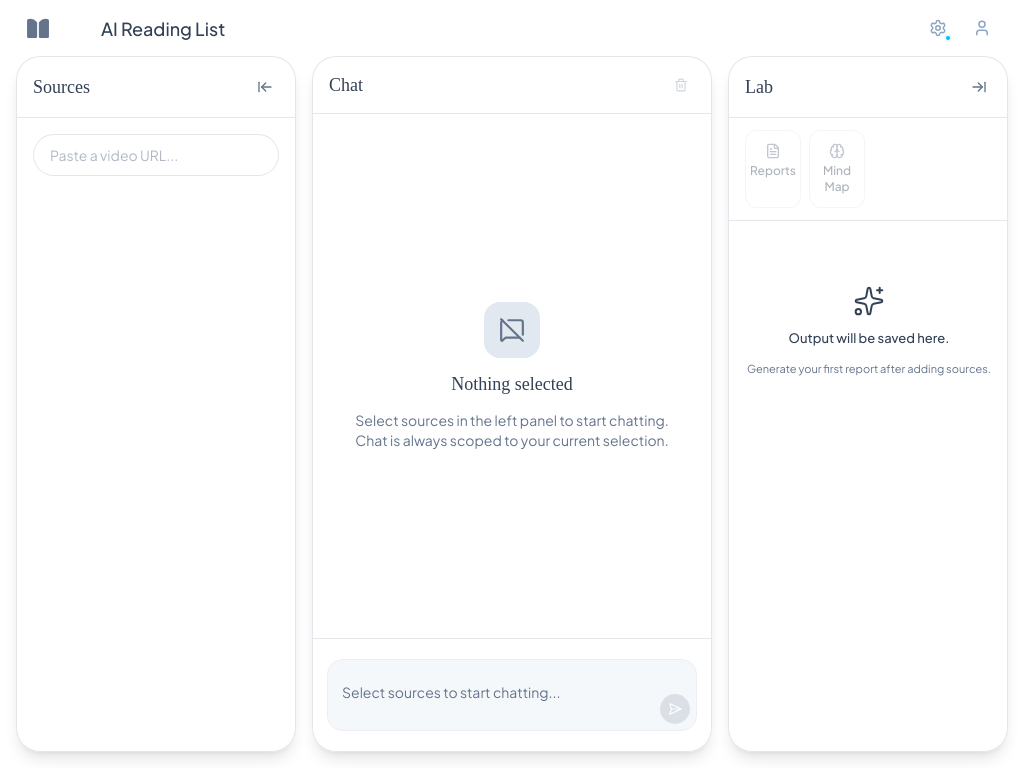
Test case: list detail page › renders three-panel workspace with correct panel headings and skeleton text
Expected: the heading "Sources" is shown, [33, 77, 90, 97]
Expected: the heading "Chat" is shown, [329, 75, 363, 95]
Click the button named "collapse sources".
click(265, 87)  # box [251, 73, 279, 101]
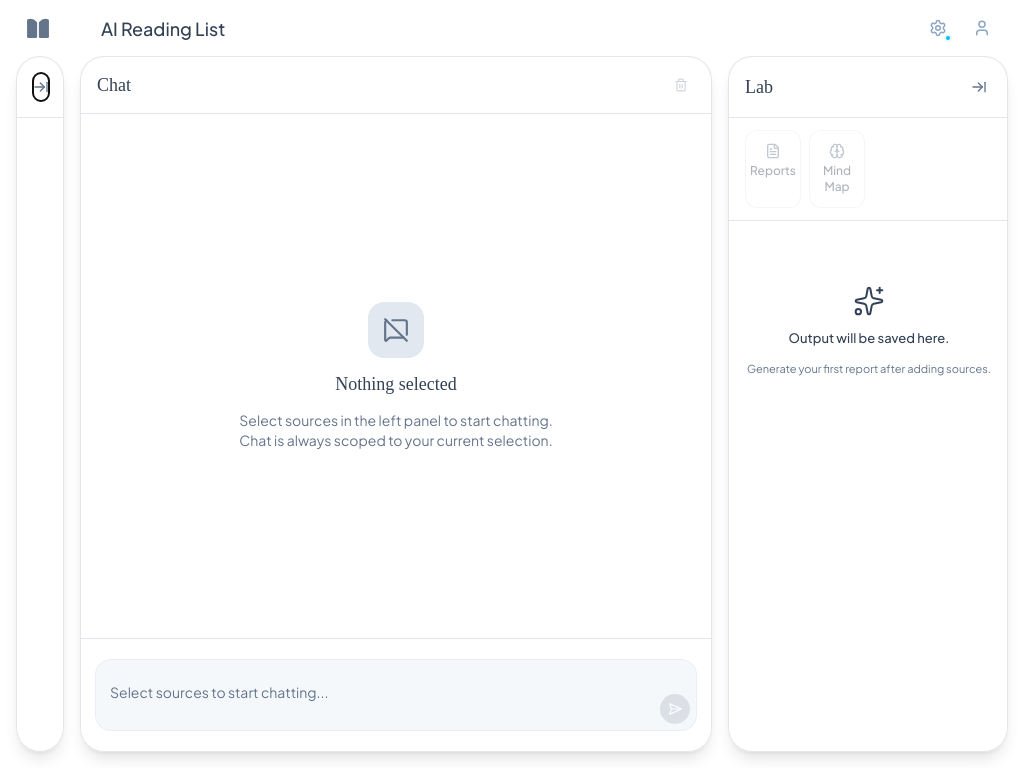
Expected: the button named "expand sources" is shown
Click the button named "expand sources".
click(41, 87)  # box [33, 73, 49, 101]
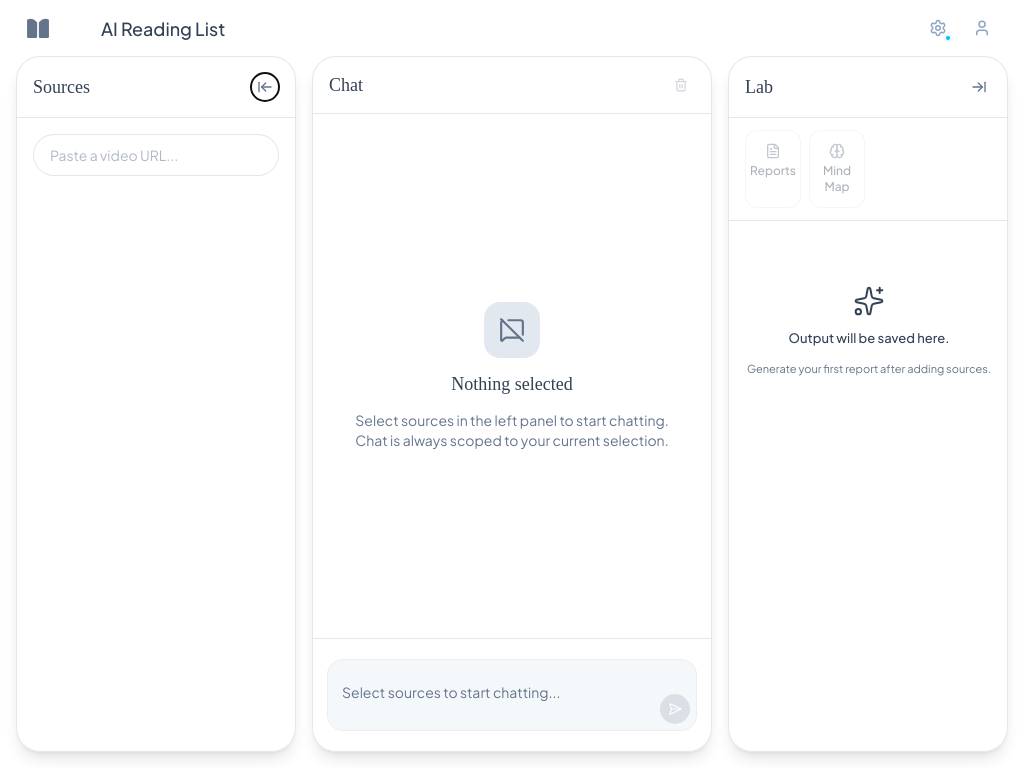
Expected: the button named "collapse sources" is shown, [251, 73, 279, 101]
